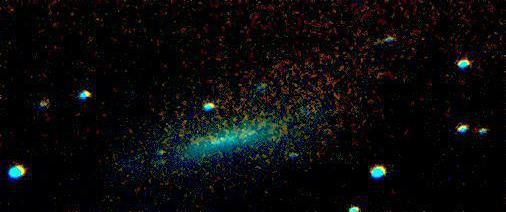star: (144, 137, 174, 167)
